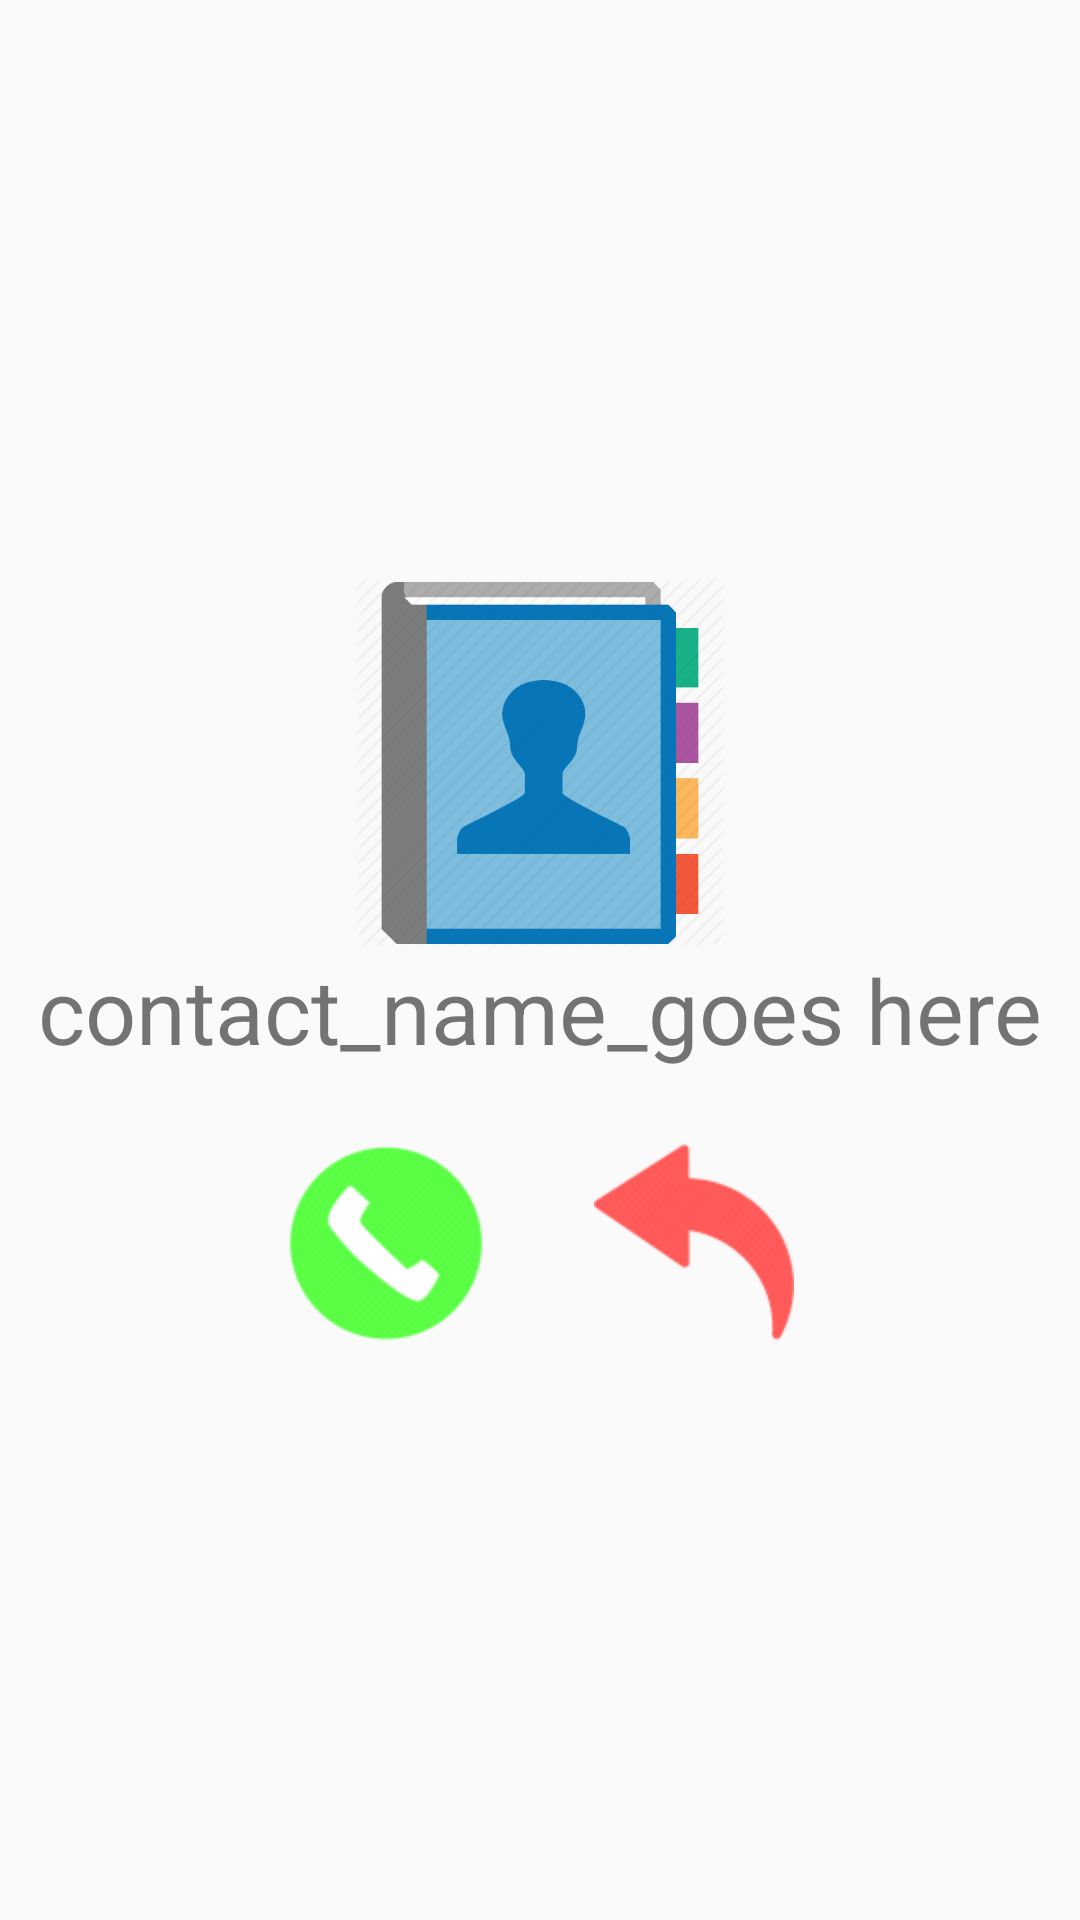

Icons on this 1080 × 1920 Android screen, each with its box as [left=x1, top=y1, right=x2, bottom=y2]:
back: [left=594, top=1144, right=794, bottom=1340]
call: [left=289, top=1147, right=483, bottom=1340]
